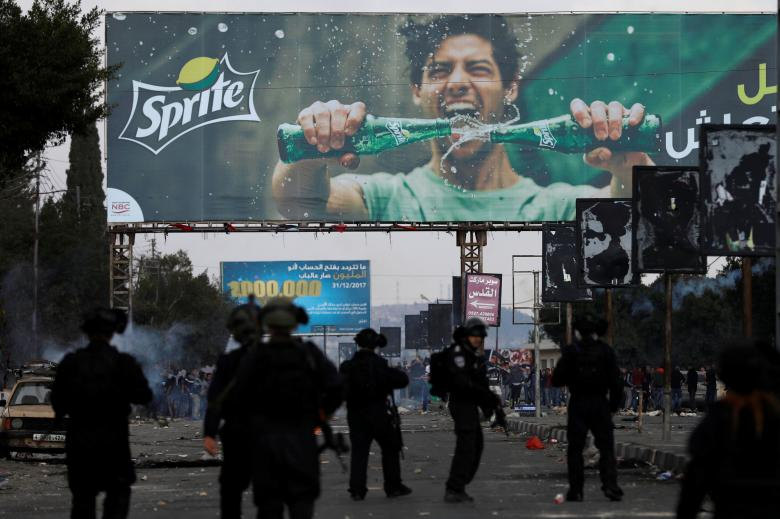sprite: (136, 70, 243, 141)
